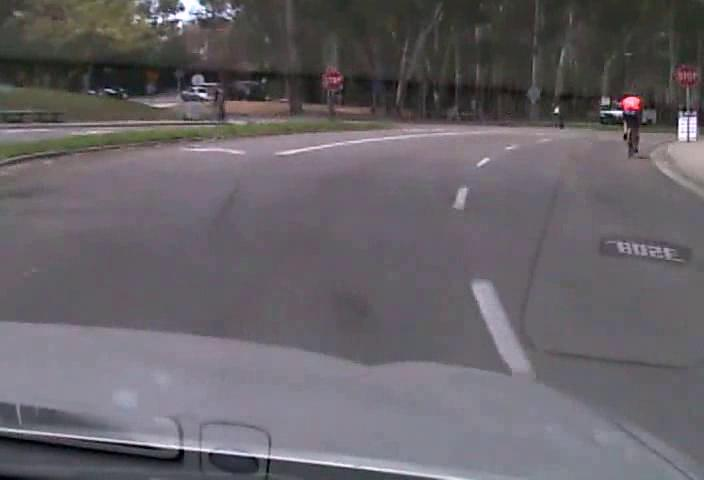stop: (321, 67, 343, 90)
